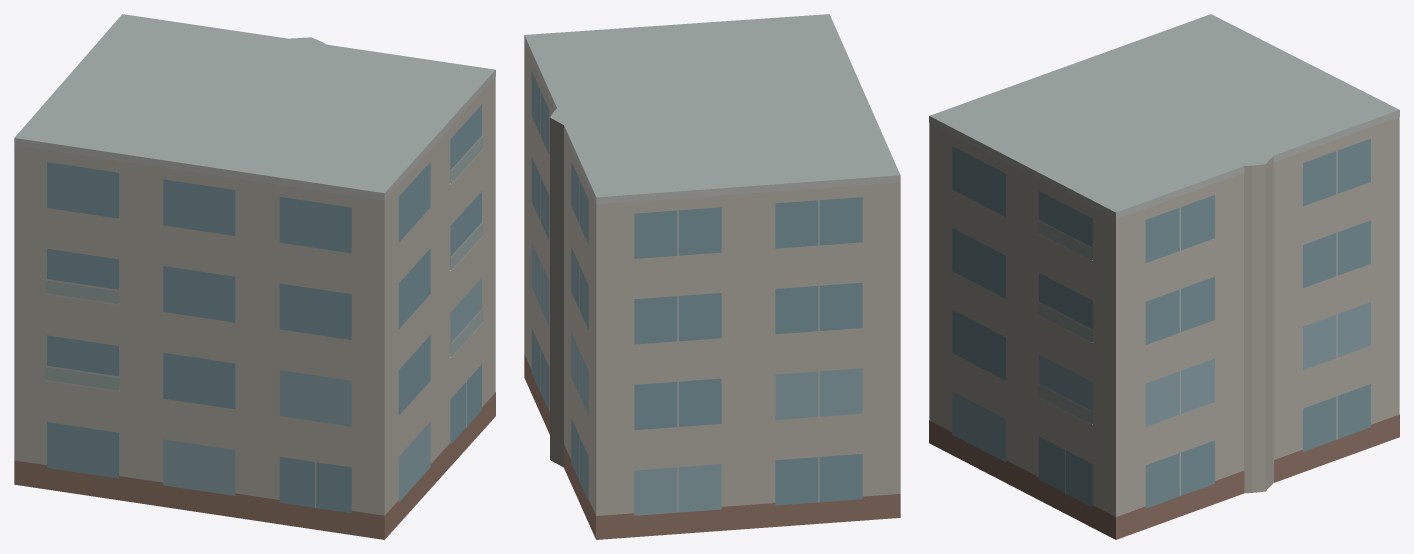
File: survey-upis-32628732.glb
3 renders of one model, left to right at view 1: azimuth 30°, elevation 25°; view 2: azimuth 150°, elevation 25°; view 3: azimuth 270°, elevation 25°, orthographic. The views are drawn at different scales.
Visible parts, largest first — view 1: survey-upis-32628732.tmp; view 2: survey-upis-32628732.tmp; view 3: survey-upis-32628732.tmp.
Part boxes in pixels (x1=…): survey-upis-32628732.tmp: x1=14, y1=14, x2=495, y2=539; survey-upis-32628732.tmp: x1=524, y1=14, x2=900, y2=539; survey-upis-32628732.tmp: x1=929, y1=14, x2=1399, y2=539.
Bounding box in the file's own units: 15.36 × 11.8 × 15.38.
